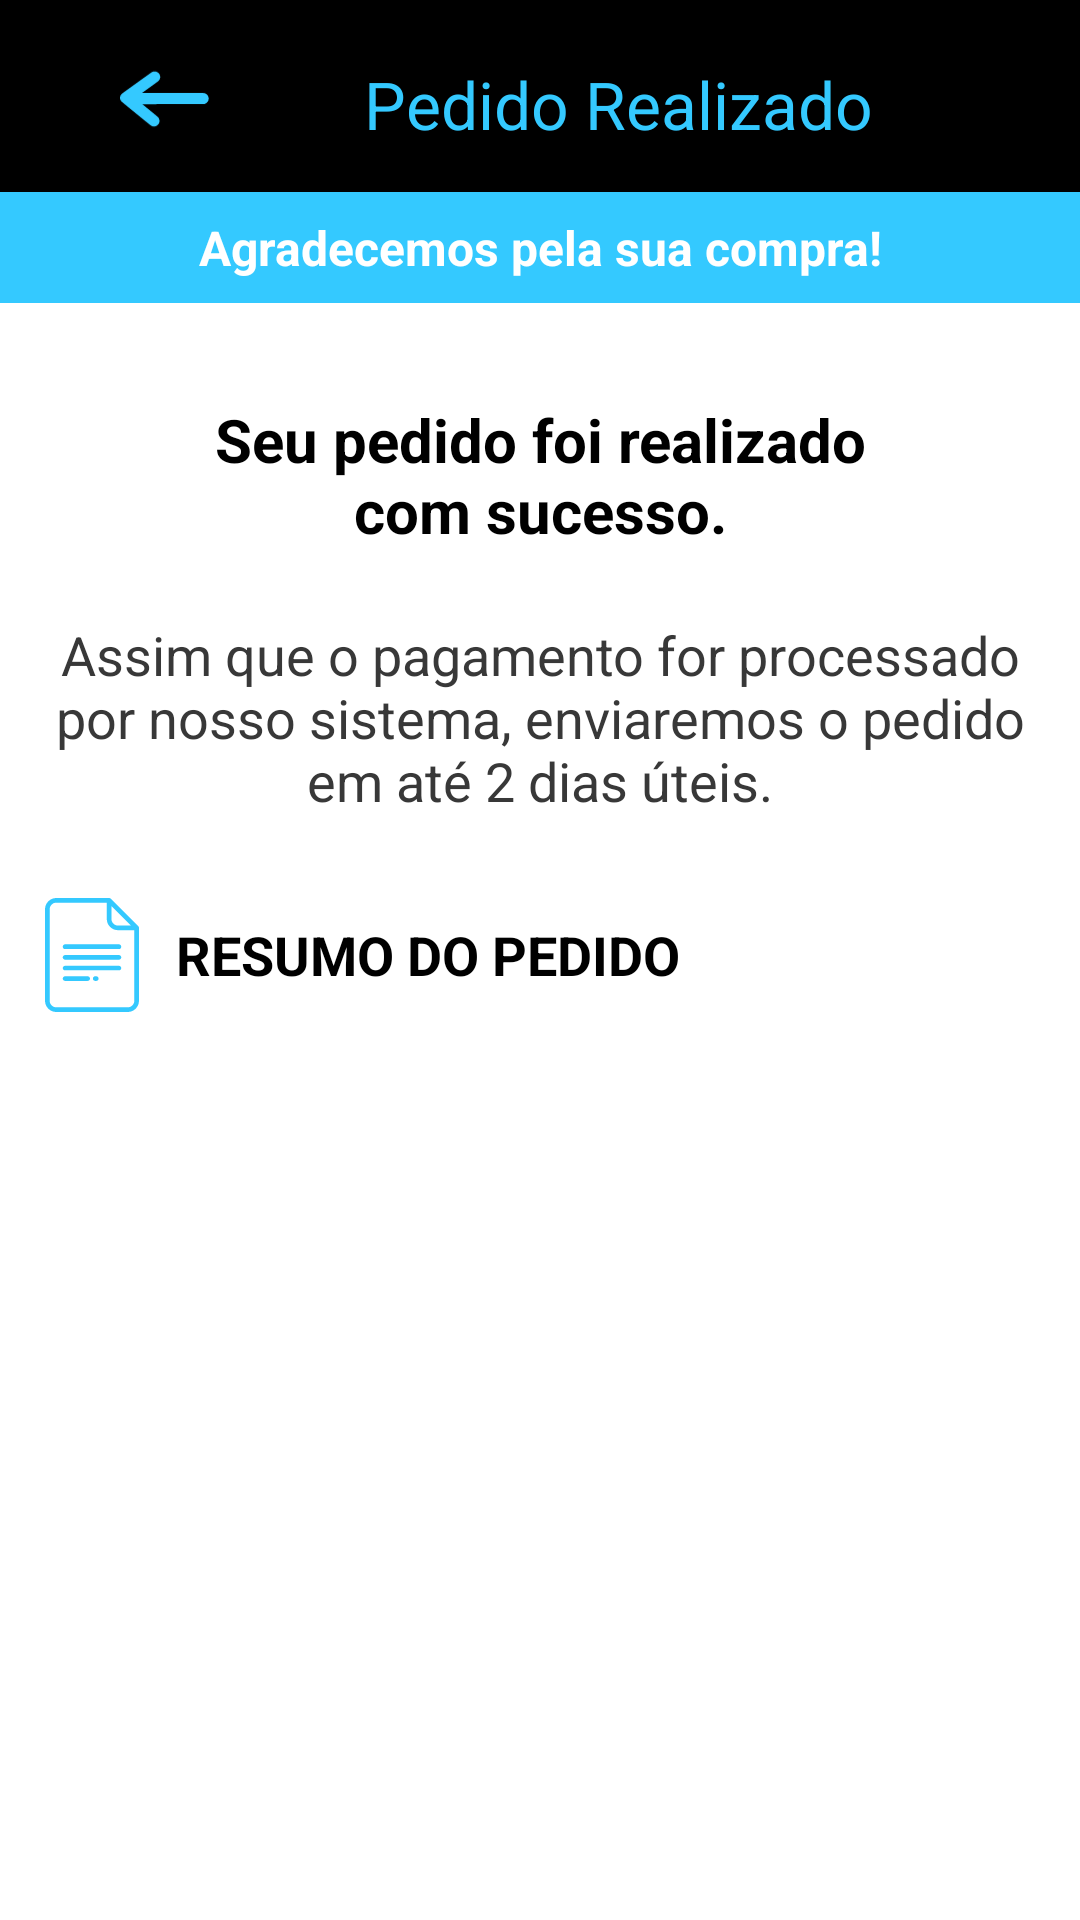

Icon click points for this 1080x1920 phone screenshot, format (x,y):
doc: (92,955)
